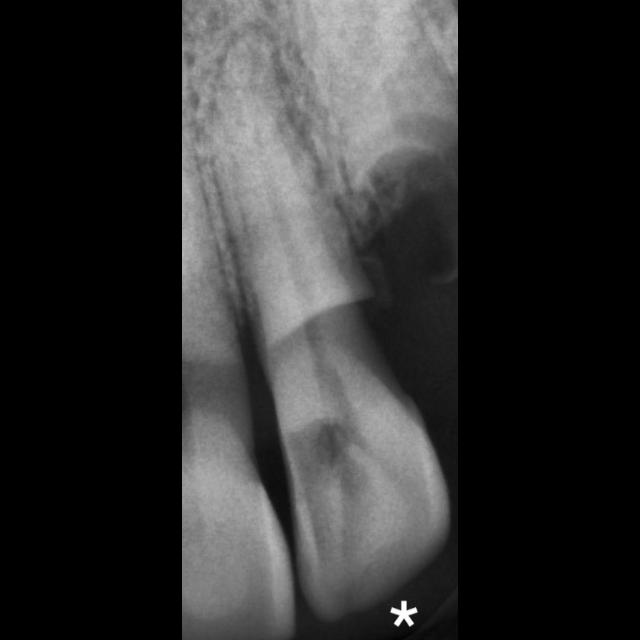tooth: (210, 34, 452, 625)
